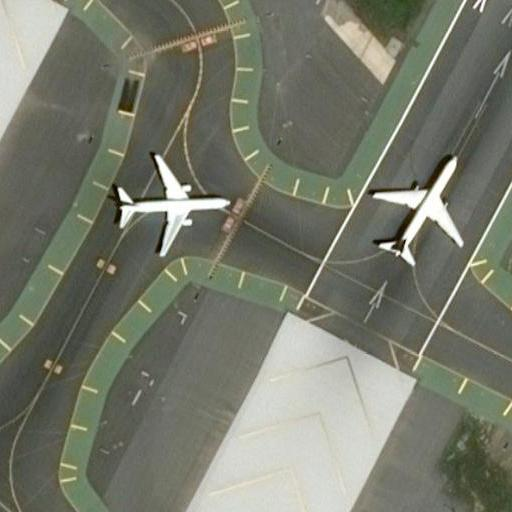Aircraft: (106, 146, 229, 258), (371, 146, 466, 270)
